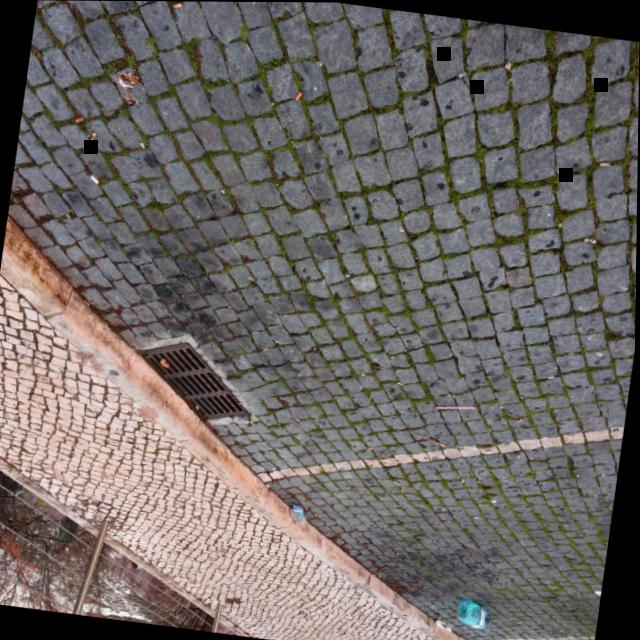Cigarette: (295, 91, 302, 101), (76, 116, 84, 123), (91, 132, 96, 140), (84, 299, 90, 305), (517, 417, 524, 422), (140, 143, 145, 149), (398, 380, 404, 385), (394, 480, 402, 483), (468, 471, 473, 475), (368, 446, 372, 451), (267, 483, 271, 487), (518, 453, 521, 458), (479, 480, 484, 483), (442, 507, 447, 510), (462, 479, 466, 482), (474, 516, 480, 518), (273, 467, 277, 470), (264, 347, 268, 350), (478, 500, 483, 502), (484, 541, 489, 543), (402, 487, 404, 492), (347, 486, 352, 488), (432, 604, 437, 606), (361, 531, 364, 534), (371, 446, 374, 449), (306, 507, 308, 511), (570, 620, 574, 622), (297, 419, 301, 420)
Clear plastic bottle: (459, 599, 492, 628), (293, 503, 308, 523)
